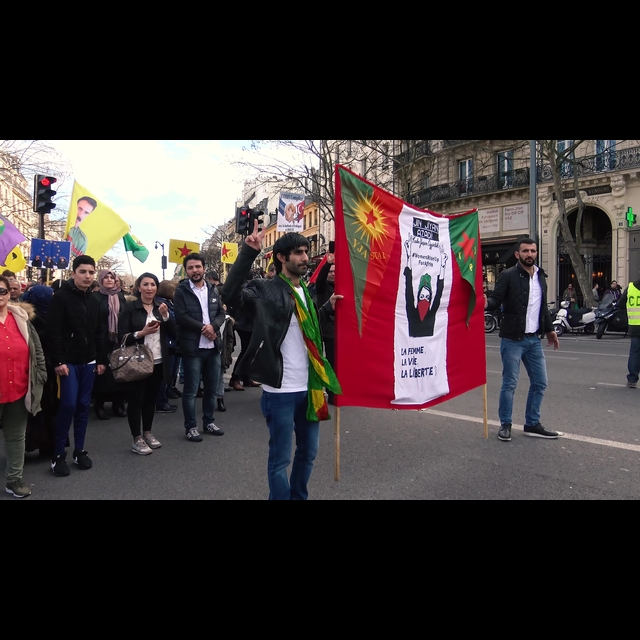ZI: (236, 207, 268, 261)
